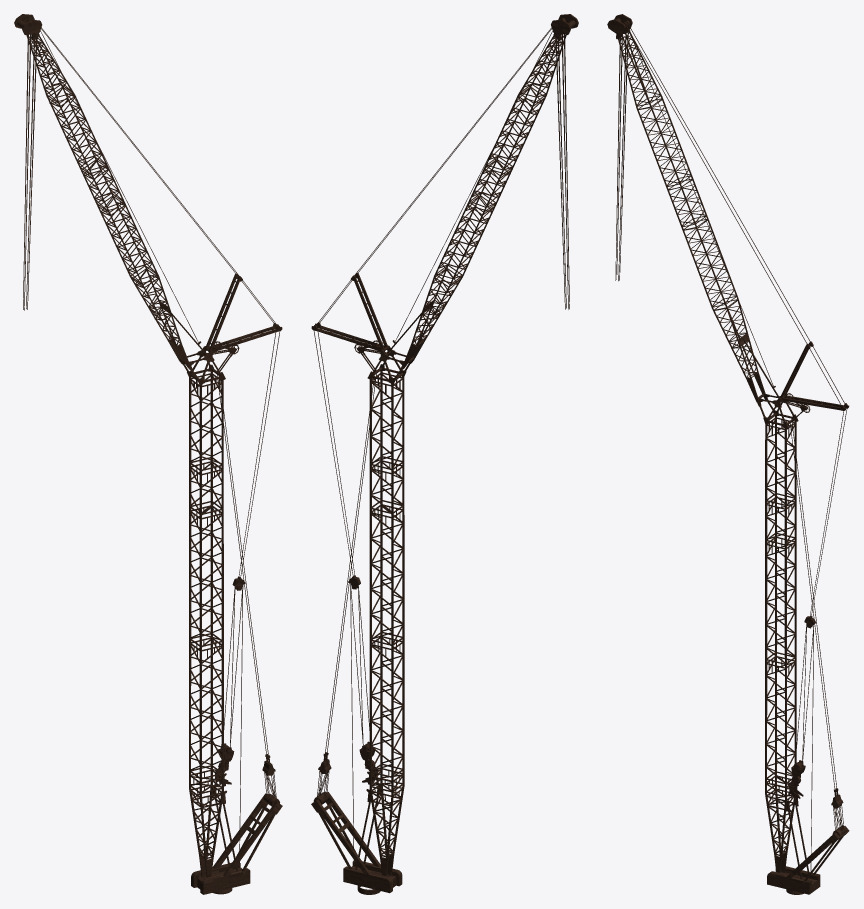
File: crane.FBX
The picture shows the model from 3 angles, left to right: view 1: azimuth 30°, elevation 25°; view 2: azimuth 150°, elevation 25°; view 3: azimuth 330°, elevation 25°; orthographic projection. The views are drawn at different scales.
Parts seen in each view (by area): view 1: crane; view 2: crane; view 3: crane.
Boxes of the visible parts, box(x1,y1,x2,y2) form: crane: box(14, 14, 282, 894); crane: box(311, 14, 578, 894); crane: box(607, 14, 849, 894).
Size of the model in its own units: 1865 by 6275 by 175.
Materials: 1 (1 with a texture image).
